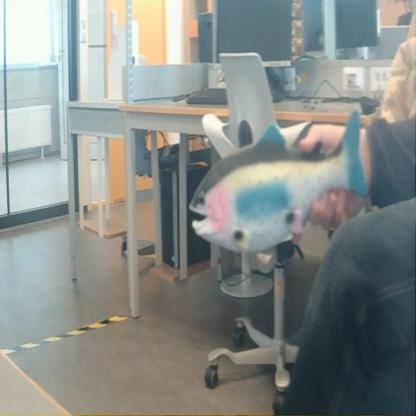rubberfish: (186, 103, 373, 256)
